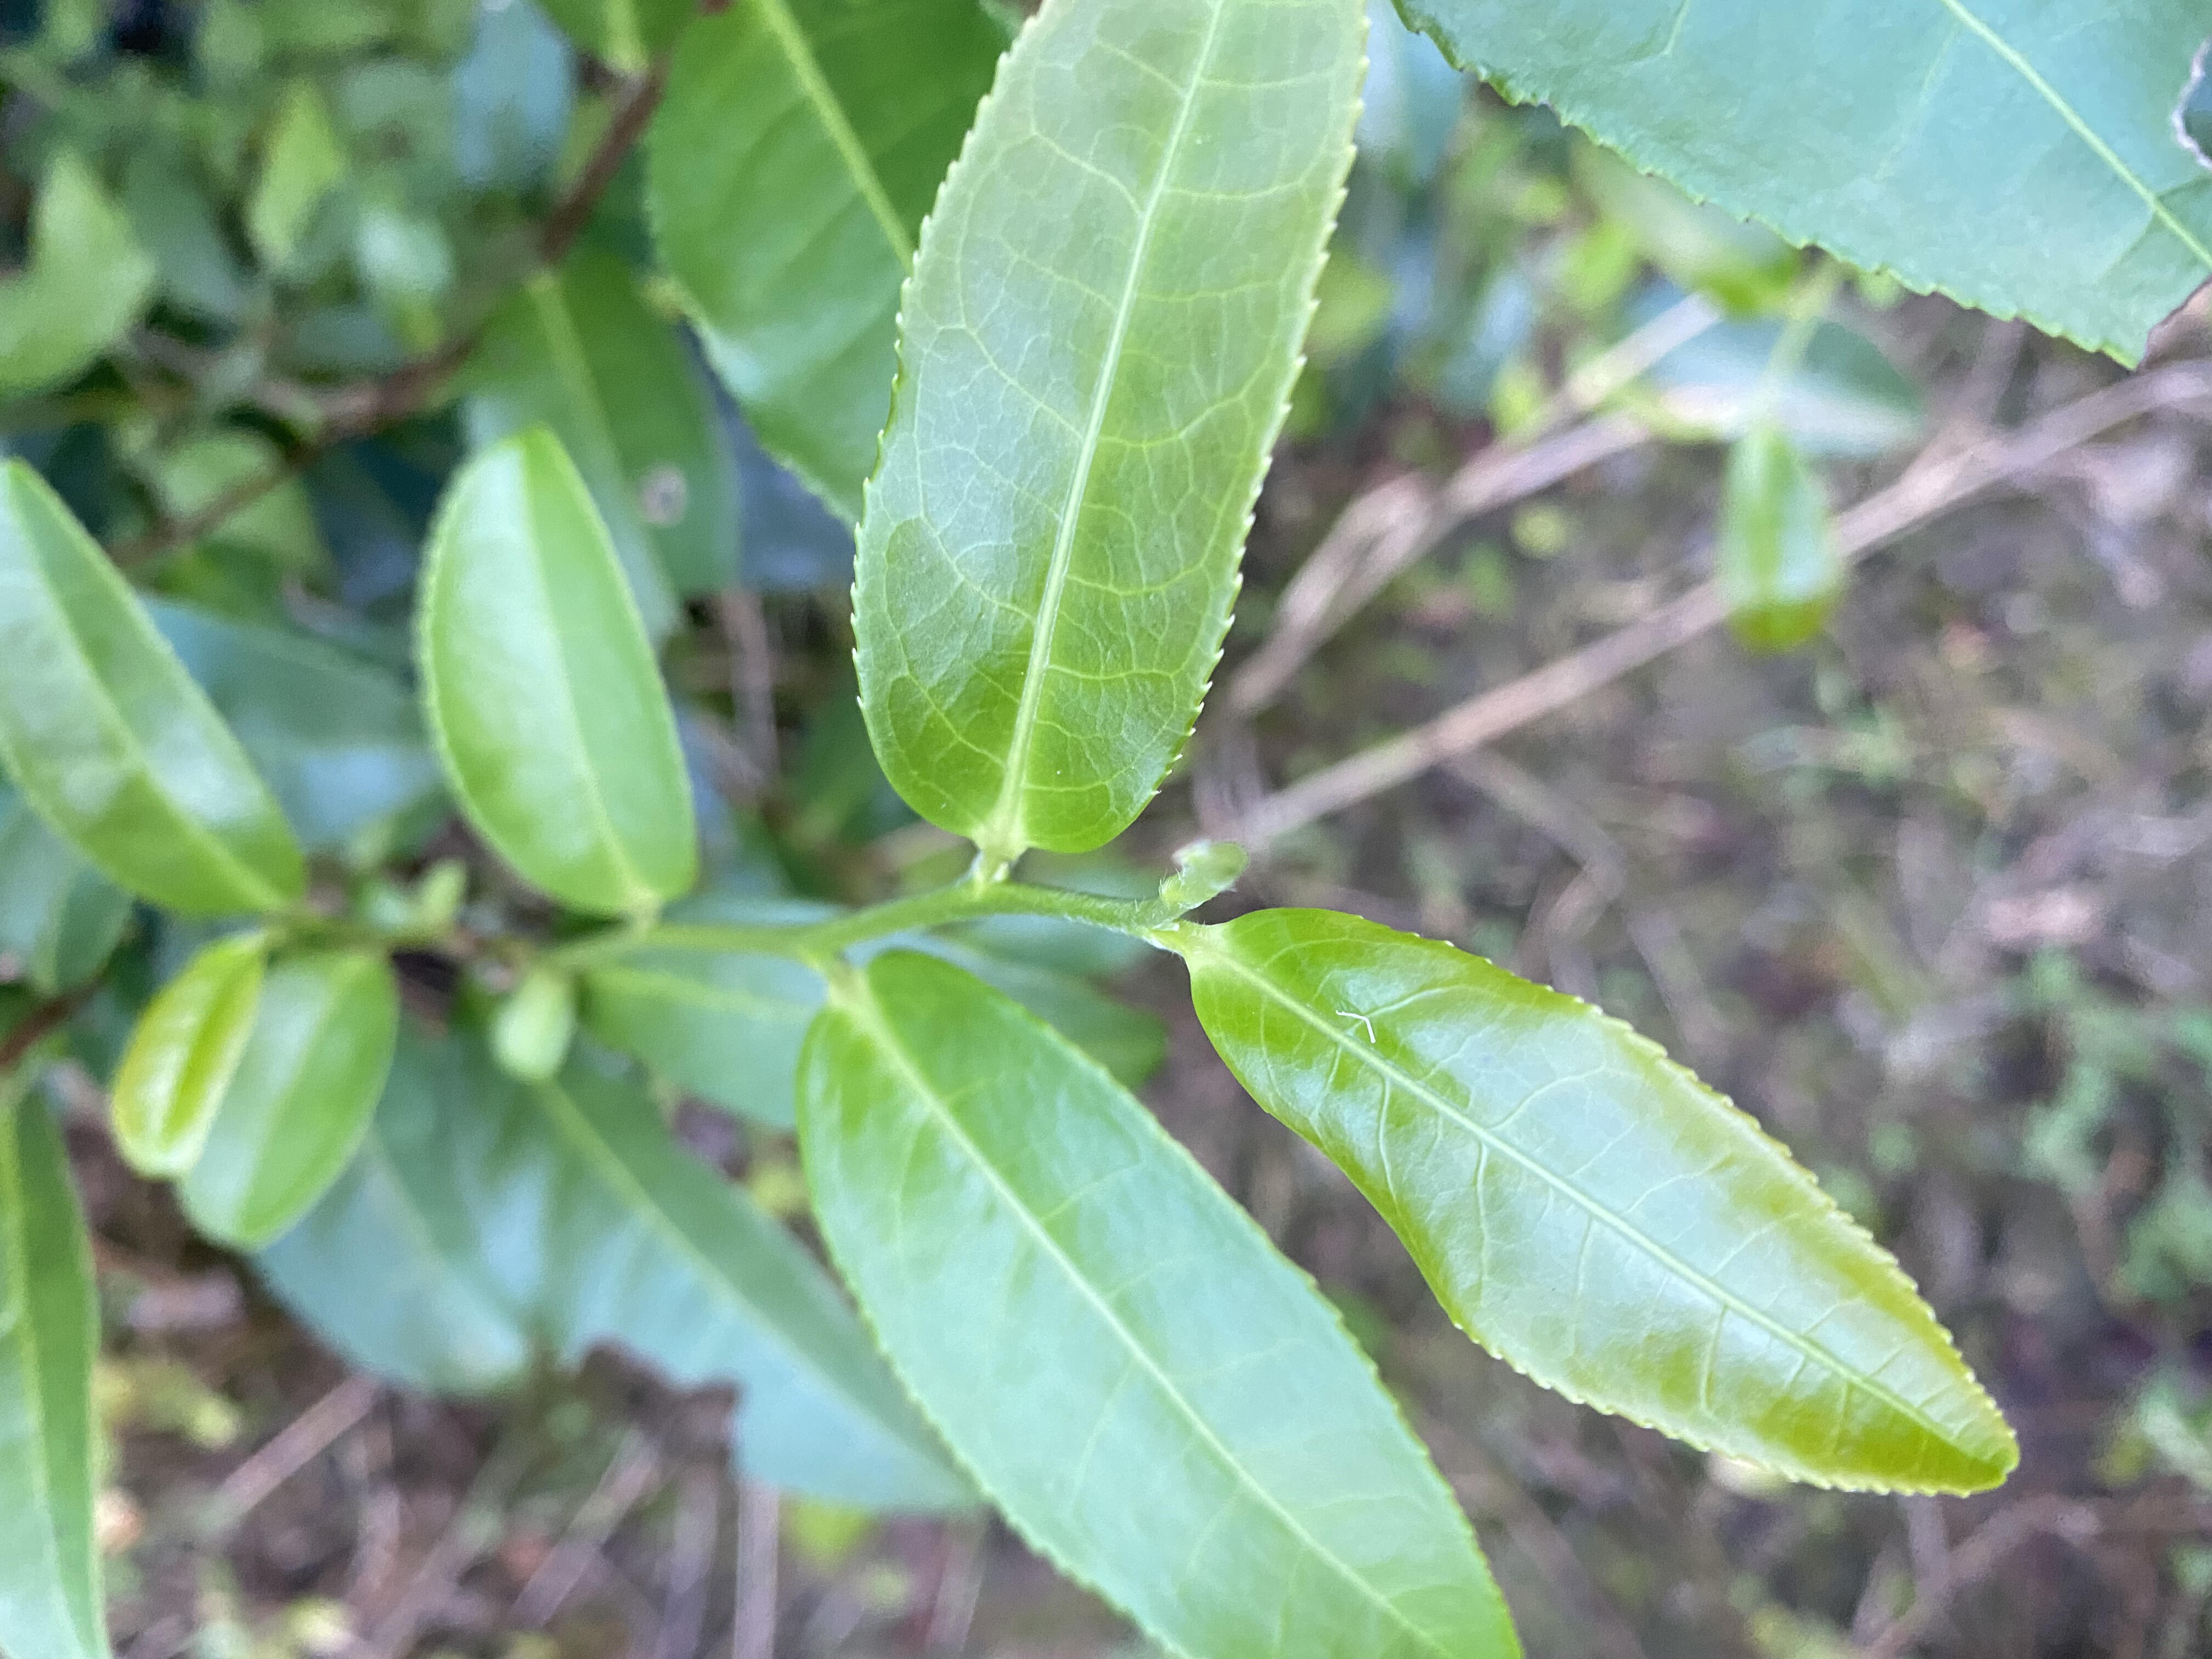healthy: (792, 948, 1522, 1657), (1184, 908, 2022, 1502), (843, 2, 1369, 861)
